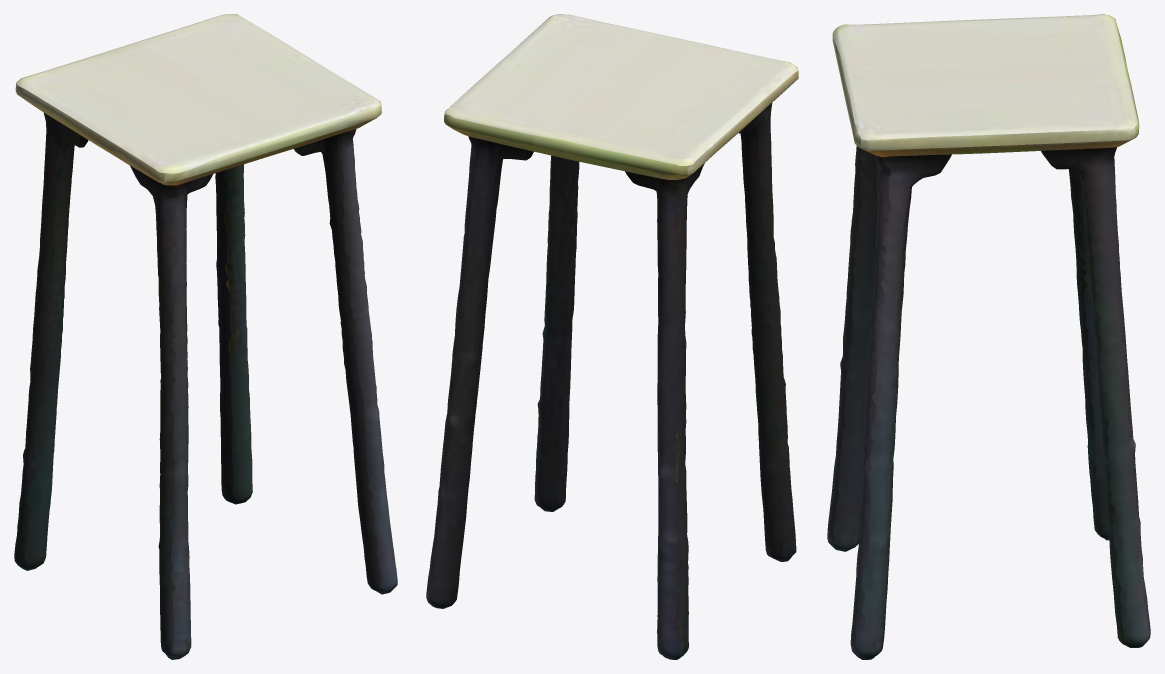
3 renders of one model, left to right at view 1: azimuth 30°, elevation 25°; view 2: azimuth 150°, elevation 25°; view 3: azimuth 270°, elevation 25°, orthographic. The views are drawn at different scales.
Visible parts, largest first — view 1: world; view 2: world; view 3: world.
Part boxes in pixels (x1,y1,x2,y2): world: (14, 14, 397, 659); world: (426, 14, 798, 659); world: (827, 14, 1150, 659).
Size of the model in its own units: 0.2967 by 0.5261 by 0.2949.
1 material, 1 textured.
